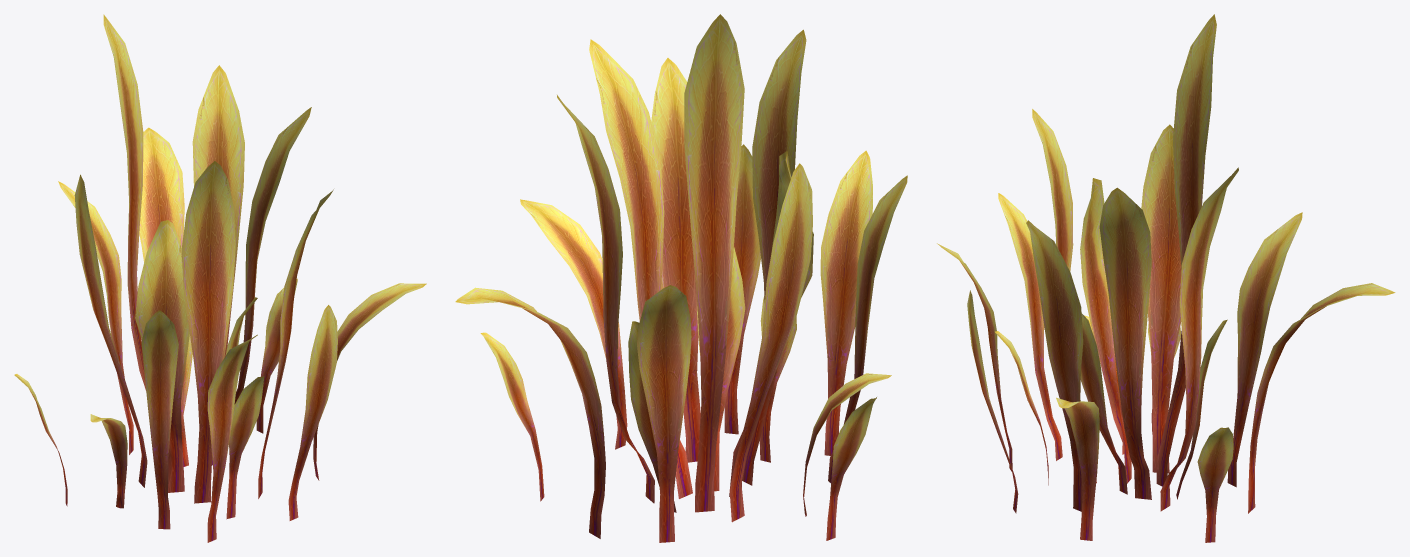
File: smallplant.glb
The picture shows the model from 3 angles, left to right: view 1: azimuth 30°, elevation 25°; view 2: azimuth 150°, elevation 25°; view 3: azimuth 270°, elevation 25°; orthographic projection. The views are drawn at different scales.
Visible parts, largest first — view 1: Coral_reef_green_reeds_04__0; view 2: Coral_reef_green_reeds_04__0; view 3: Coral_reef_green_reeds_04__0.
Part boxes in pixels (left/top/right/bottom): Coral_reef_green_reeds_04__0: left=14, top=14, right=426, bottom=542; Coral_reef_green_reeds_04__0: left=455, top=14, right=907, bottom=542; Coral_reef_green_reeds_04__0: left=937, top=14, right=1395, bottom=542.
Bounding box in the file's own units: 2.89 × 3.5 × 3.21.
Materials: 1 (1 with a texture image).
